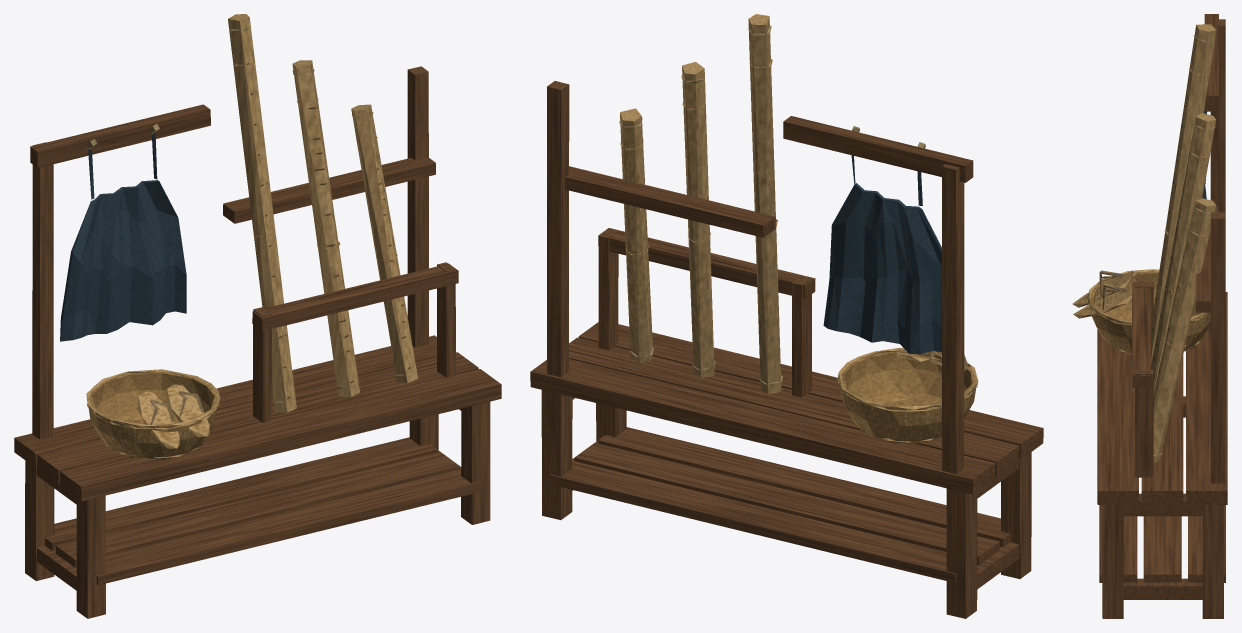
File: CanalMeasuringStation_LOD2.fbx
3 renders of one model, left to right at view 1: azimuth 30°, elevation 25°; view 2: azimuth 150°, elevation 25°; view 3: azimuth 270°, elevation 25°, orthographic. The views are drawn at different scales.
Parts seen in each view (by area): view 1: CanalMeasuringStation.001; view 2: CanalMeasuringStation.001; view 3: CanalMeasuringStation.001.
Part boxes in pixels (<box>): CanalMeasuringStation.001: <box>14,14,501,618</box>; CanalMeasuringStation.001: <box>530,14,1043,618</box>; CanalMeasuringStation.001: <box>1072,14,1227,618</box>.
Size of the model in its own units: 1.65 by 1.92 by 0.5437.
1 material, 1 textured.
